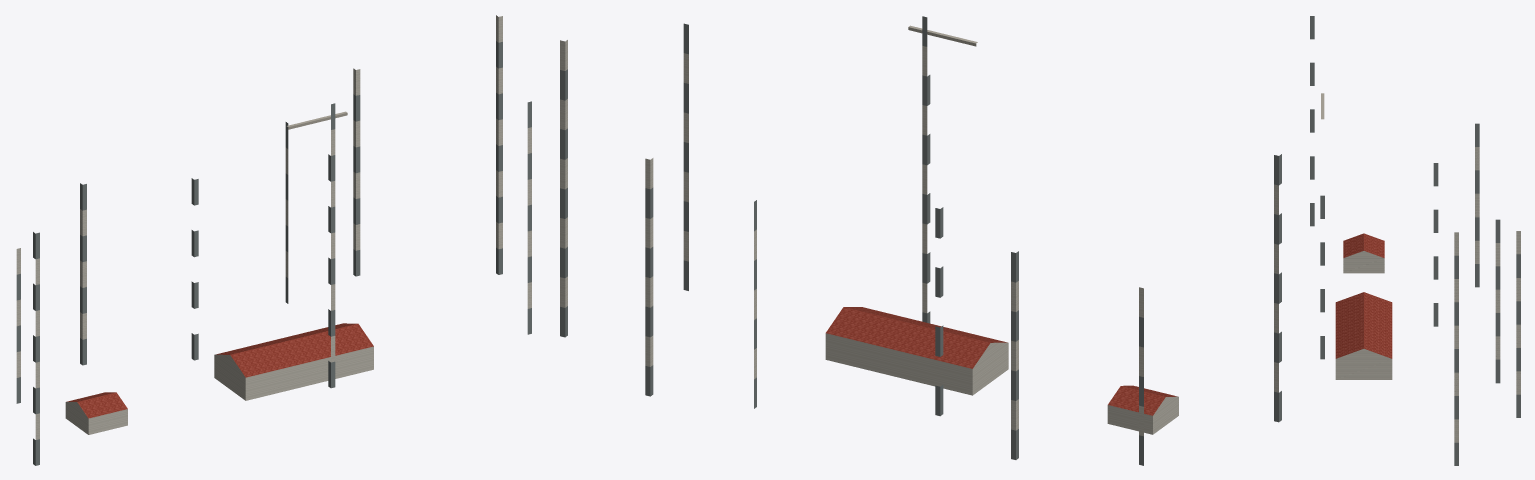
Rendered from cyxd_transmitter_site_lod1.gltf.
The picture shows the model from 3 angles, left to right: view 1: azimuth 30°, elevation 25°; view 2: azimuth 150°, elevation 25°; view 3: azimuth 270°, elevation 25°; orthographic projection. The views are drawn at different scales.
Parts seen in each view (by area): view 1: cyxd_transmitter_site; view 2: cyxd_transmitter_site; view 3: cyxd_transmitter_site.
Boxes of the visible parts, x1=… form: cyxd_transmitter_site: x1=16, y1=15, x2=531, y2=465; cyxd_transmitter_site: x1=560, y1=16, x2=1281, y2=465; cyxd_transmitter_site: x1=1310, y1=16, x2=1520, y2=465.
Bounding box in the file's own units: 111 × 55 × 40.9.
